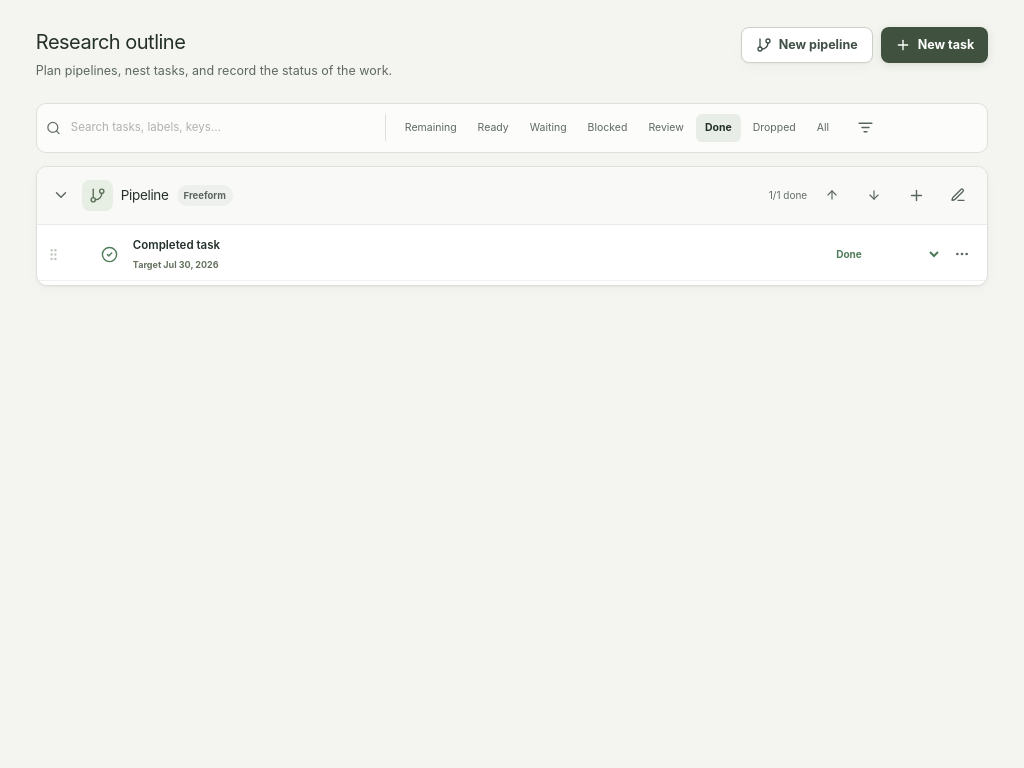
Scenario: OutlineView completion evidence › offers the same task actions on right-click
Right-click the element "Completed task".
right_click(512, 255)  # box [37, 229, 987, 281]
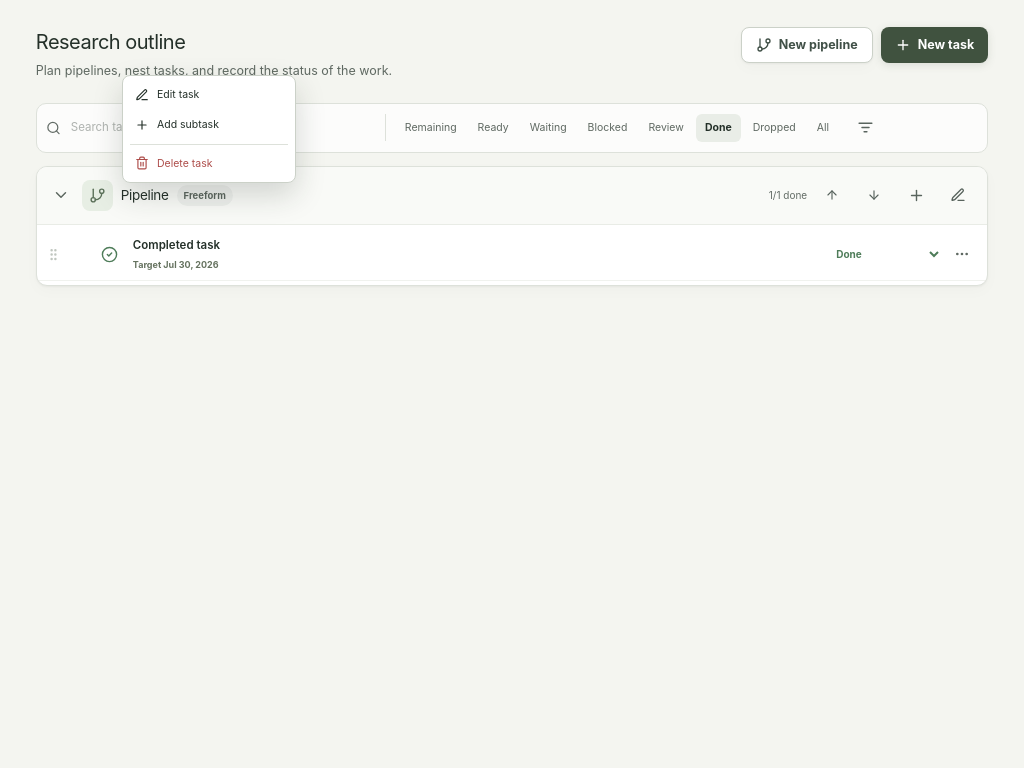
Result: the menu item "Edit task" is shown at [135, 88, 199, 102]
Result: the menu item "Delete task" is shown at [135, 156, 212, 170]
Click the menu item "Add subtask".
click(177, 125)  # box [135, 118, 219, 132]
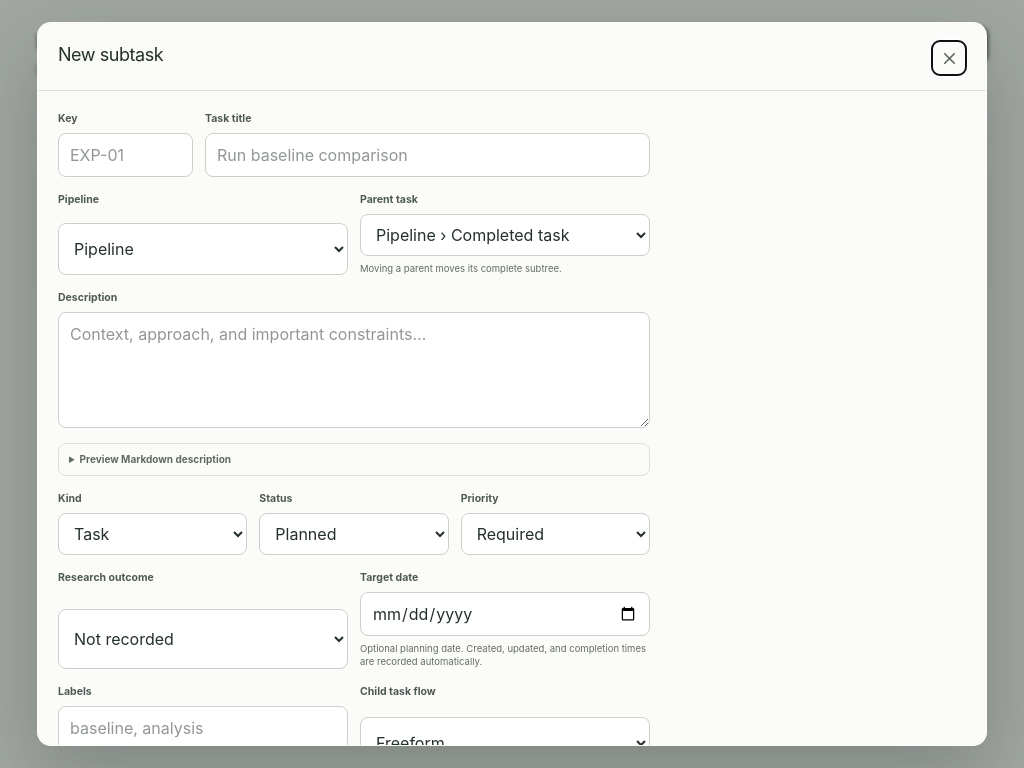
Result: the dialog "New subtask" is shown
